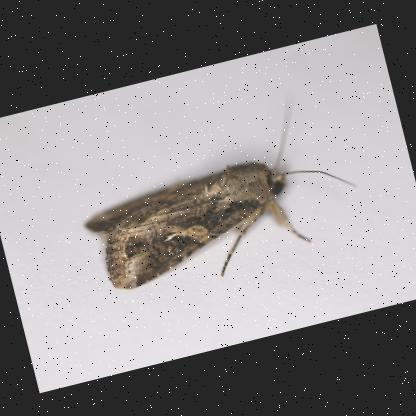Fall Armyworm Moth: (63, 80, 375, 308)
